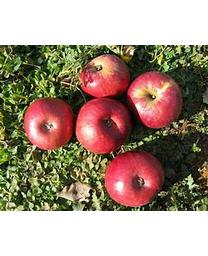apple: (126, 70, 182, 128), (106, 153, 164, 208), (76, 98, 131, 154), (23, 96, 74, 149), (80, 54, 131, 98)
